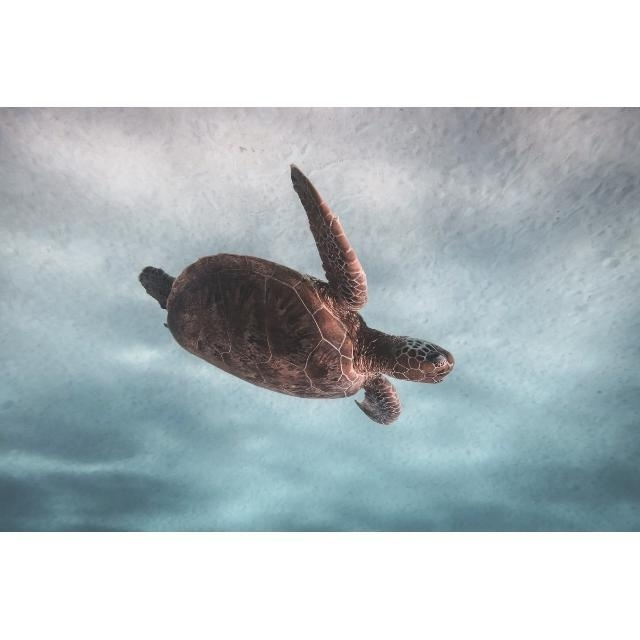turtle: (138, 161, 457, 426)
